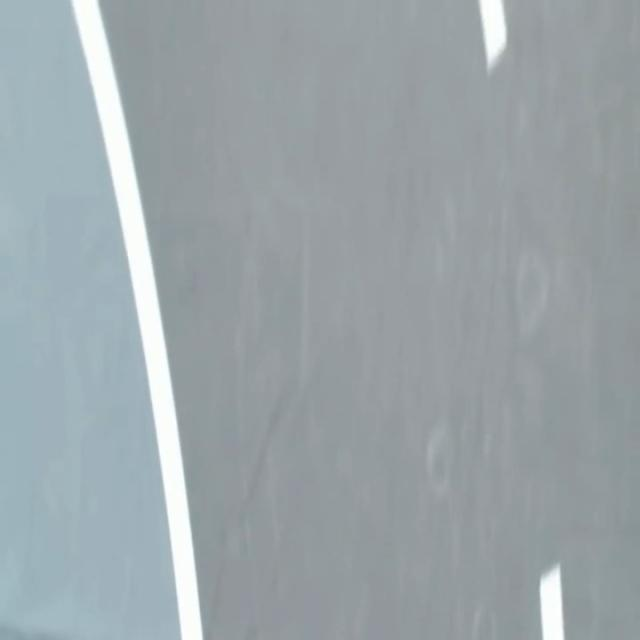center: (478, 0, 506, 71), (540, 564, 564, 639)
left: (71, 0, 202, 639)
